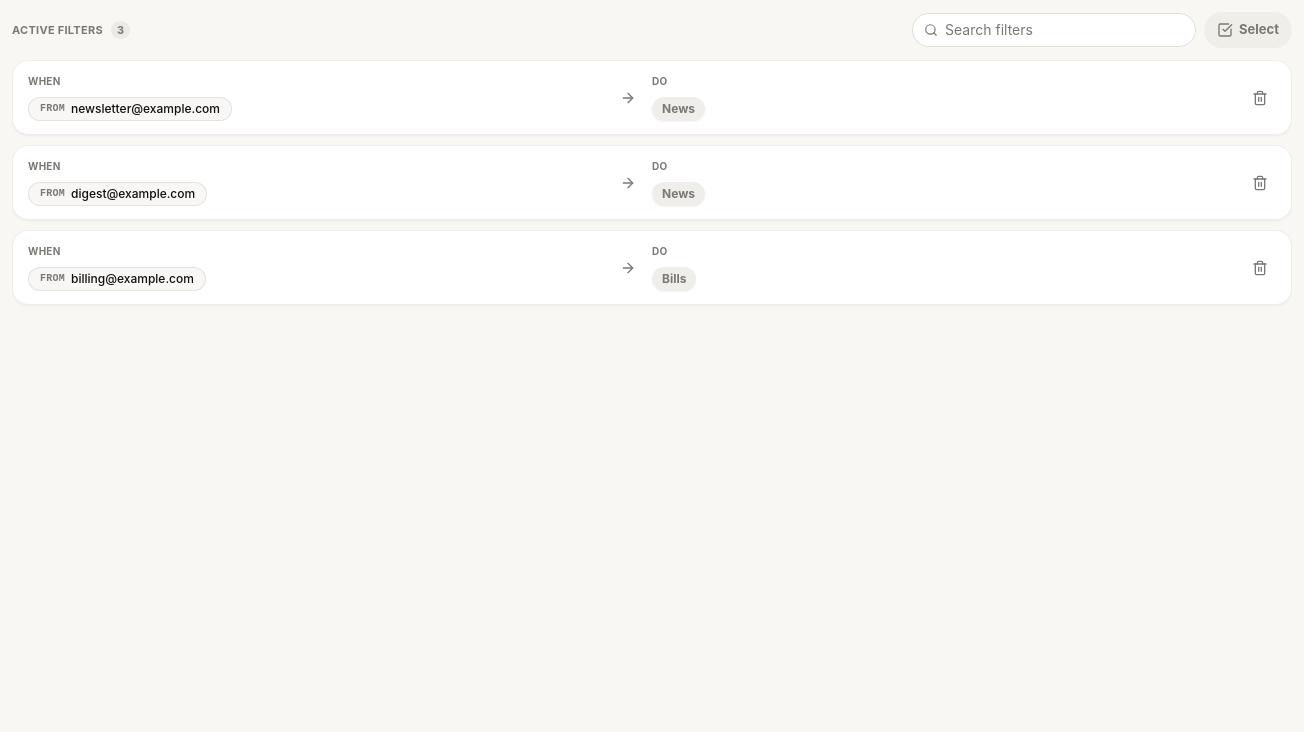
Scenario: the confirmation step › the bar's button opens a confirm rather than merging
The image size is (1304, 732).
Click the button with aria-label "Enter select mode". click: (1248, 30)
box: [1204,12,1292,48]
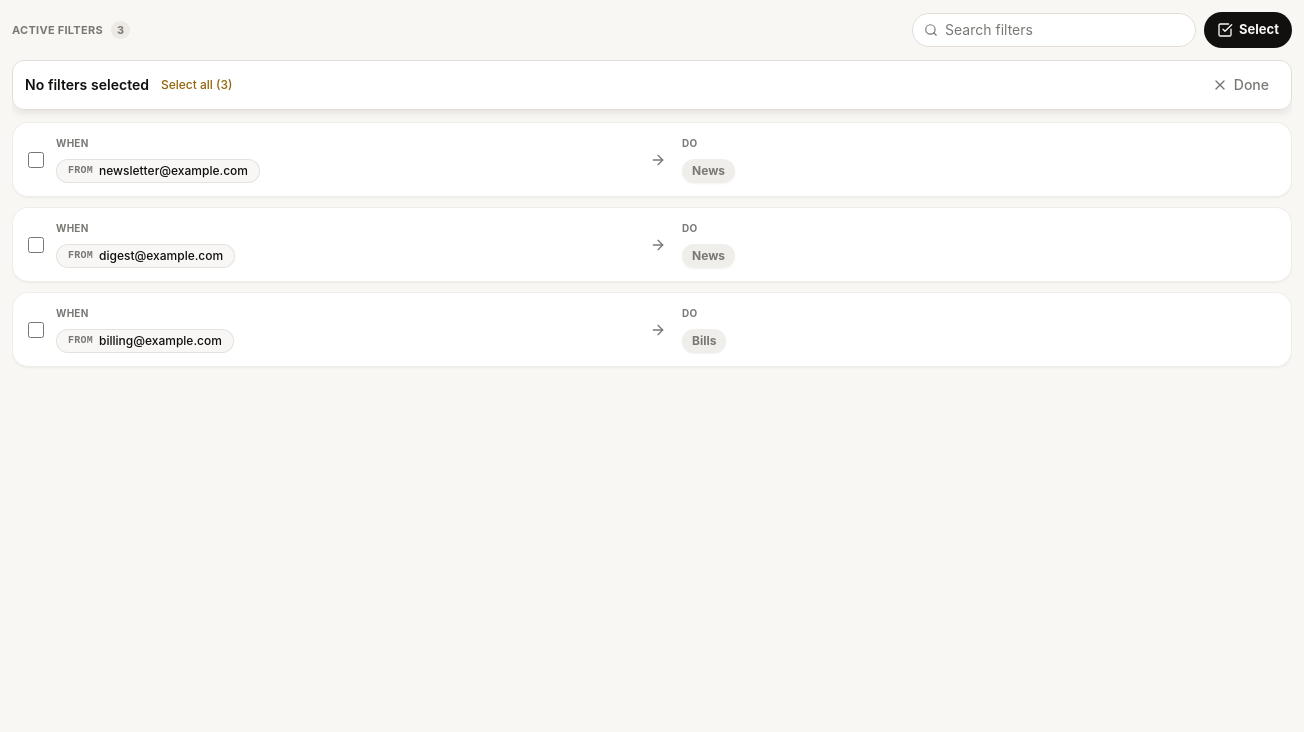
Click the checkbox named "Select filter" in the row of "newsletter@example.com". click: (36, 160)
box: [28,152,44,168]
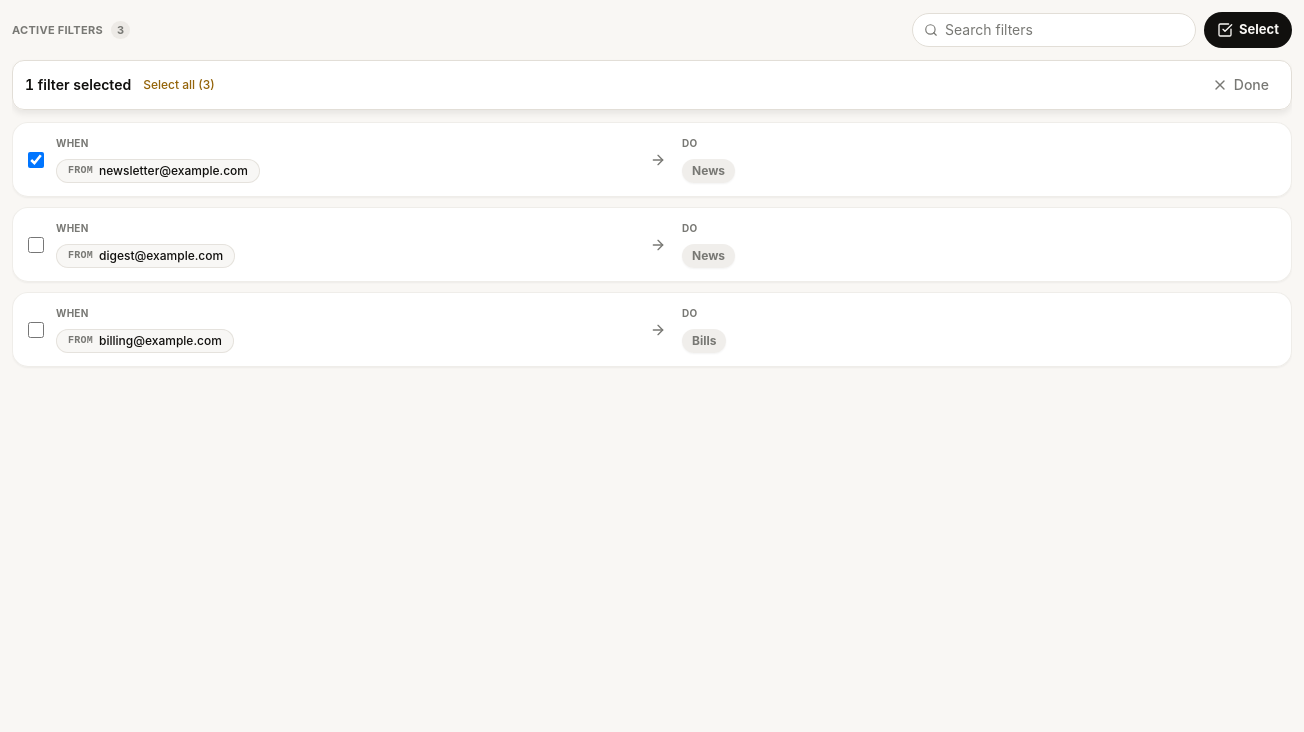
Click the checkbox named "Select filter" in the row of "digest@example.com". click: (36, 244)
box: [28,236,44,252]
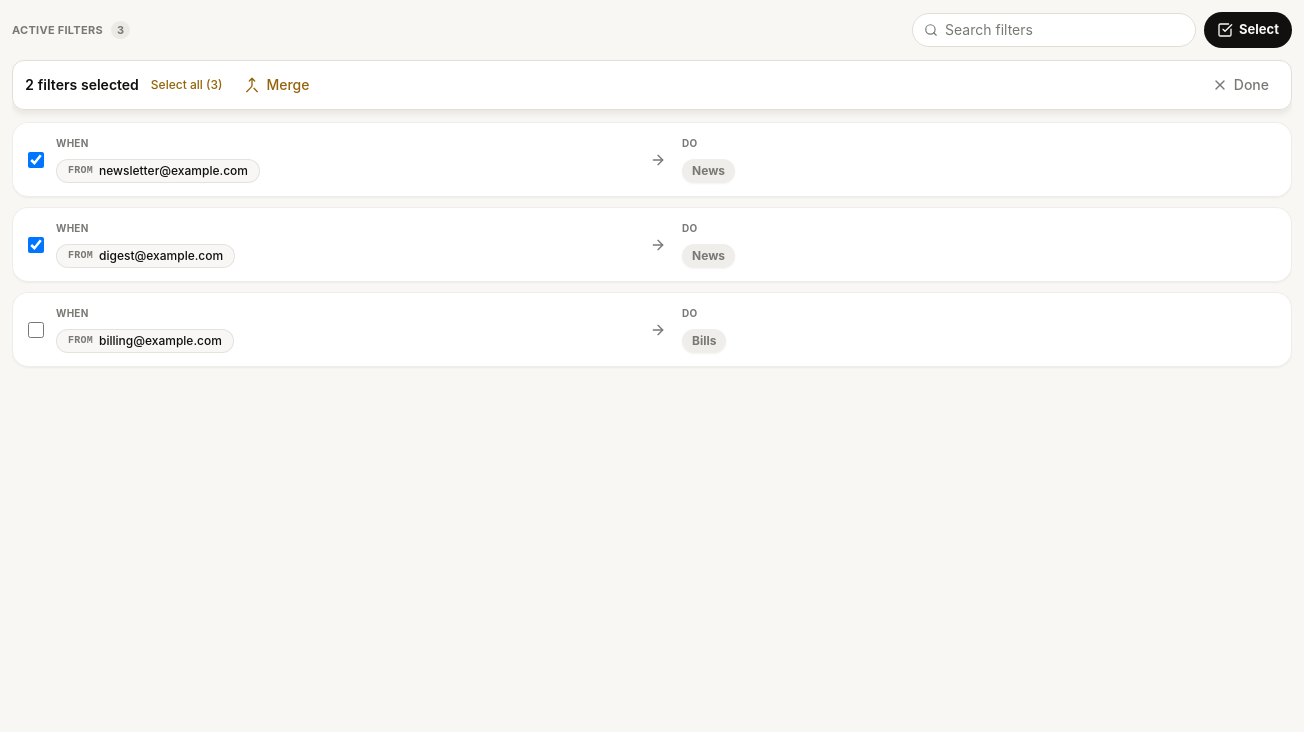
Click the button "Merge". click: (277, 85)
box: [234,69,319,101]
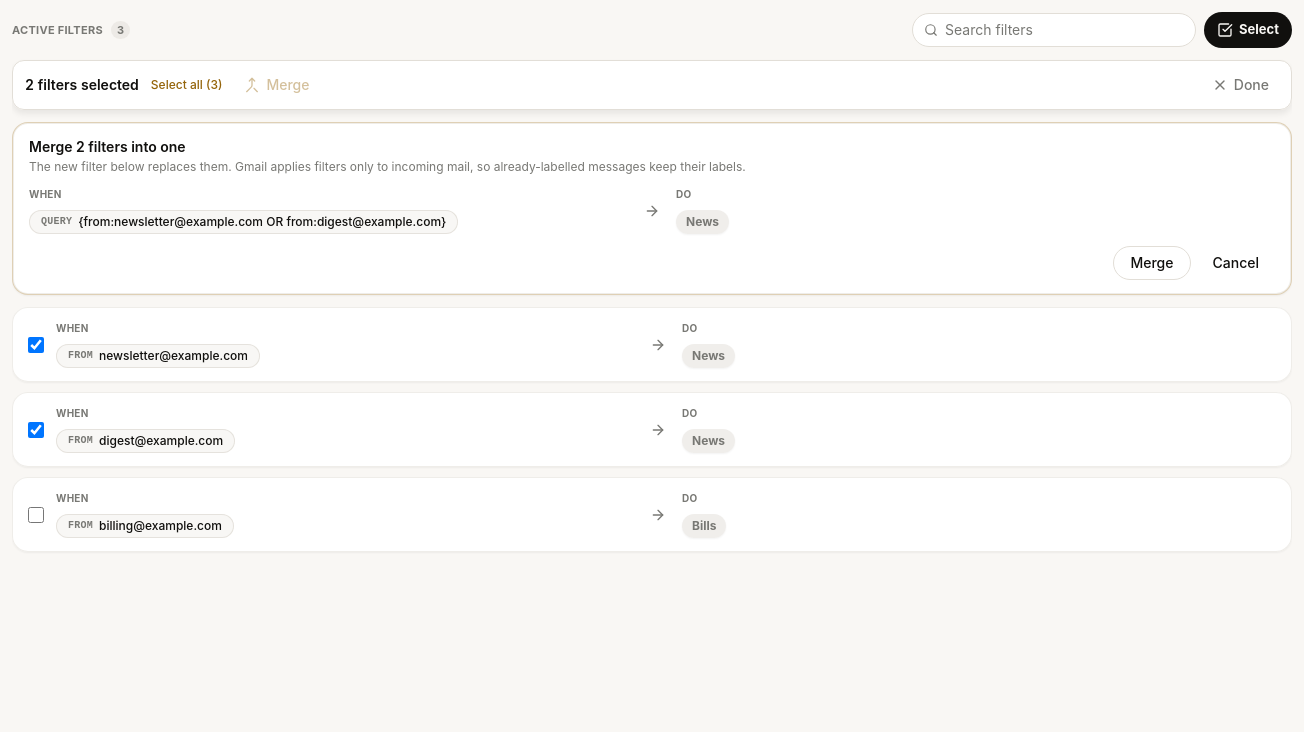
Expected: the element named "Confirm filter merge" is shown, [12,122,1292,295]
